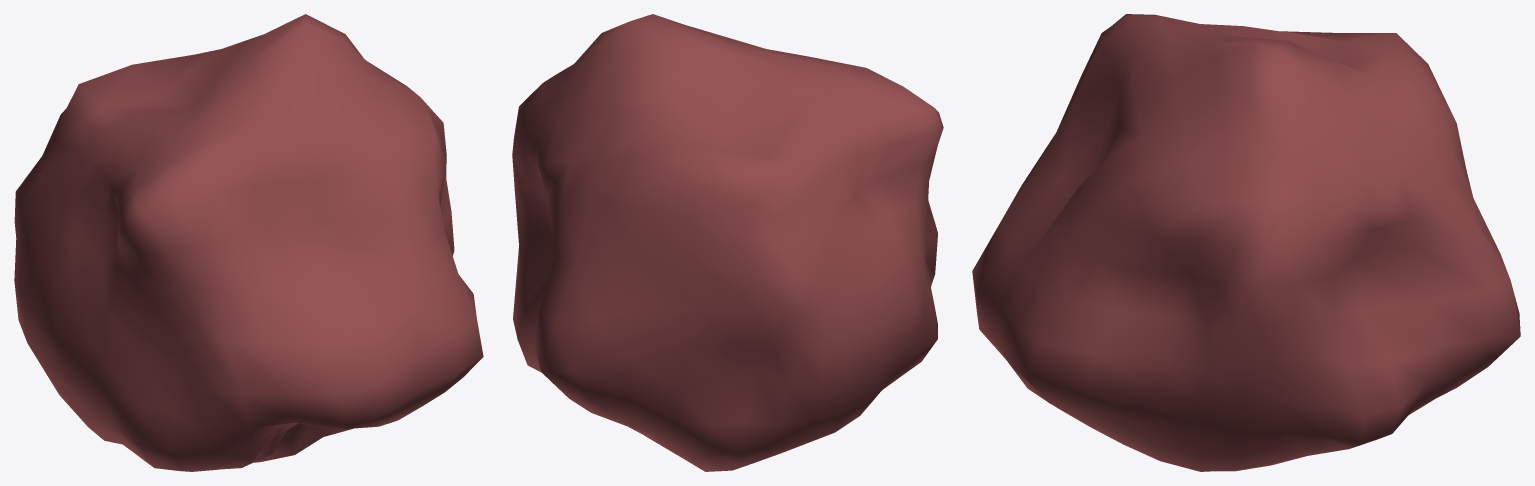
Rendered from meteoro2.fbx.
3 renders of one model, left to right at view 1: azimuth 30°, elevation 25°; view 2: azimuth 150°, elevation 25°; view 3: azimuth 270°, elevation 25°, orthographic. The views are drawn at different scales.
Visible parts, largest first — view 1: meteoro2; view 2: meteoro2; view 3: meteoro2.
Boxes of the visible parts, x1,y1,x2,y2 form: meteoro2: (14, 14, 483, 471); meteoro2: (512, 14, 943, 471); meteoro2: (972, 14, 1520, 471).
Bounding box in the file's own units: 330 × 322 × 363.
